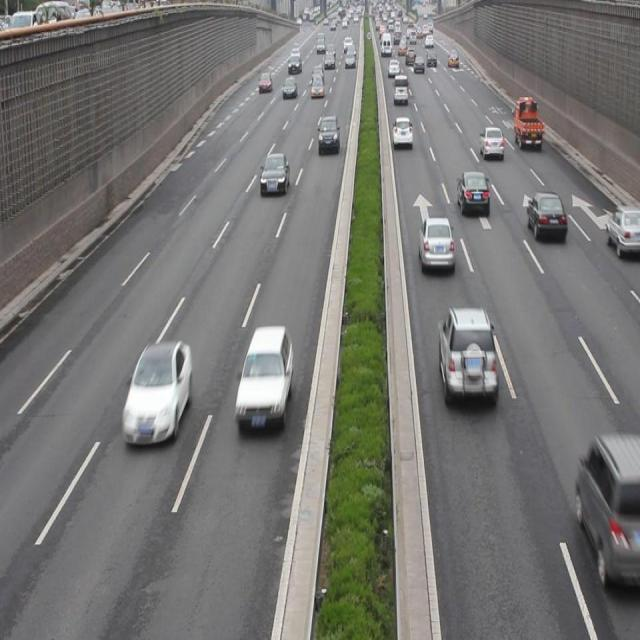bus: (512, 99, 541, 148)
car: (120, 338, 191, 452), (437, 307, 496, 405), (237, 326, 290, 425), (526, 192, 565, 245), (417, 217, 452, 274), (604, 205, 640, 257), (457, 168, 489, 217), (259, 152, 288, 194), (477, 124, 502, 160), (318, 115, 338, 154), (392, 116, 412, 151)
truck: (577, 432, 640, 587)
